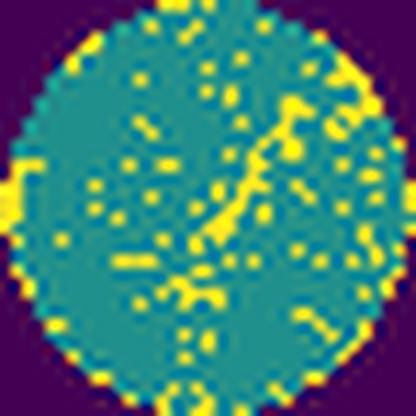Loc: (186, 91, 312, 252), (158, 276, 230, 312)
